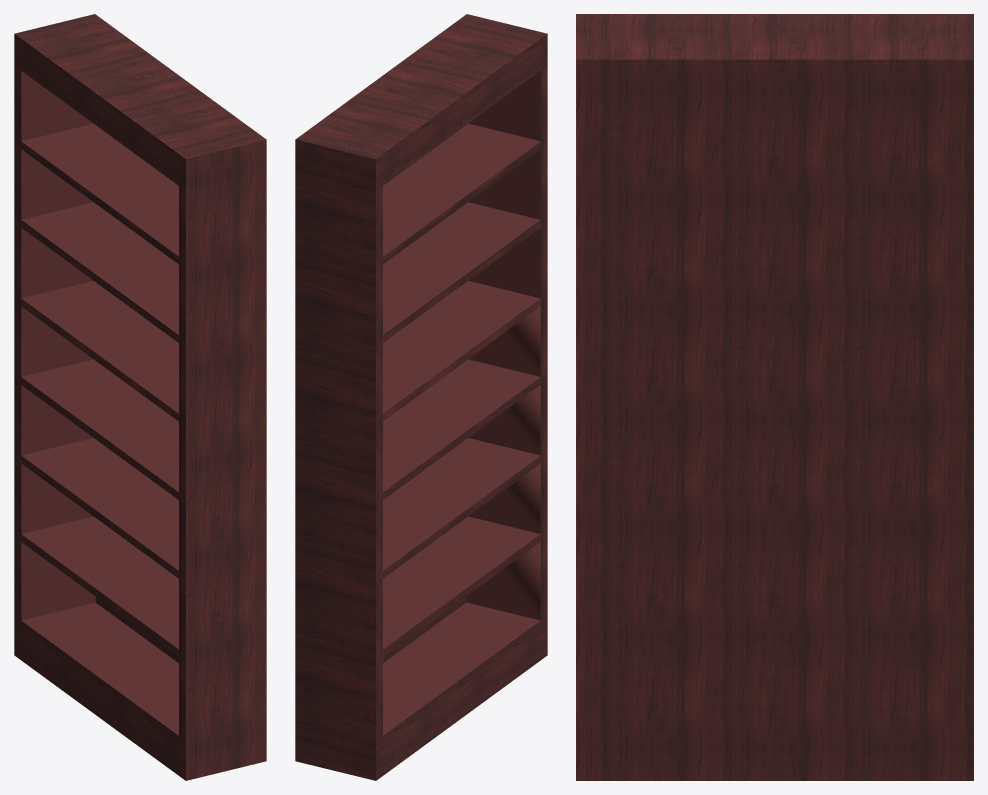
Rendered from EmptyBookShelfV2.fbx.
3 renders of one model, left to right at view 1: azimuth 30°, elevation 25°; view 2: azimuth 150°, elevation 25°; view 3: azimuth 270°, elevation 25°, orthographic. The views are drawn at different scales.
Parts seen in each view (by area): view 1: pCube2; view 2: pCube2; view 3: pCube2.
Boxes of the visible parts, x1,y1,x2,y2 form: pCube2: [14, 14, 266, 780]; pCube2: [295, 14, 547, 780]; pCube2: [576, 14, 973, 780].
Bounding box in the file's own units: 0.5431 × 4 × 2.
